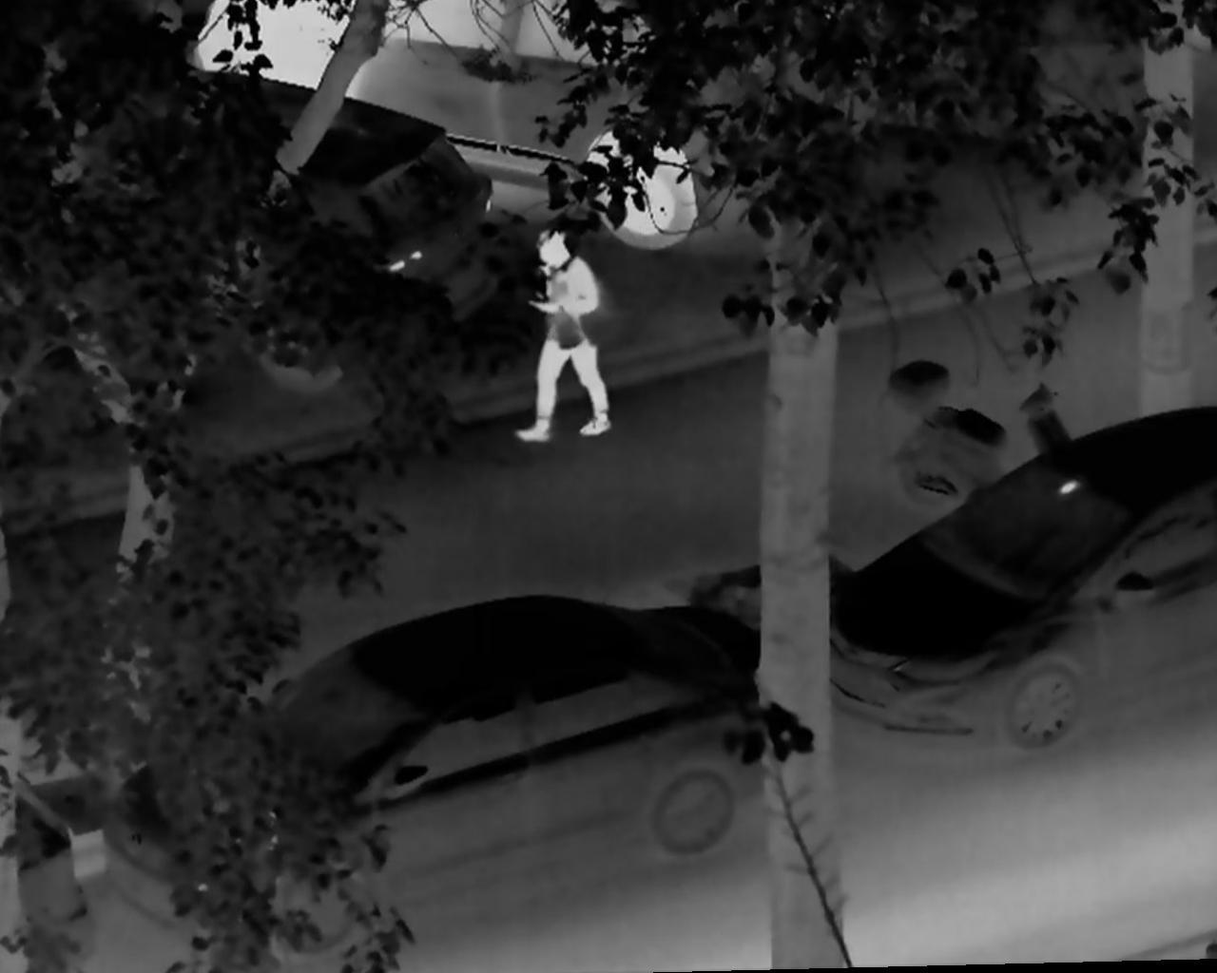person: (510, 228, 615, 445)
